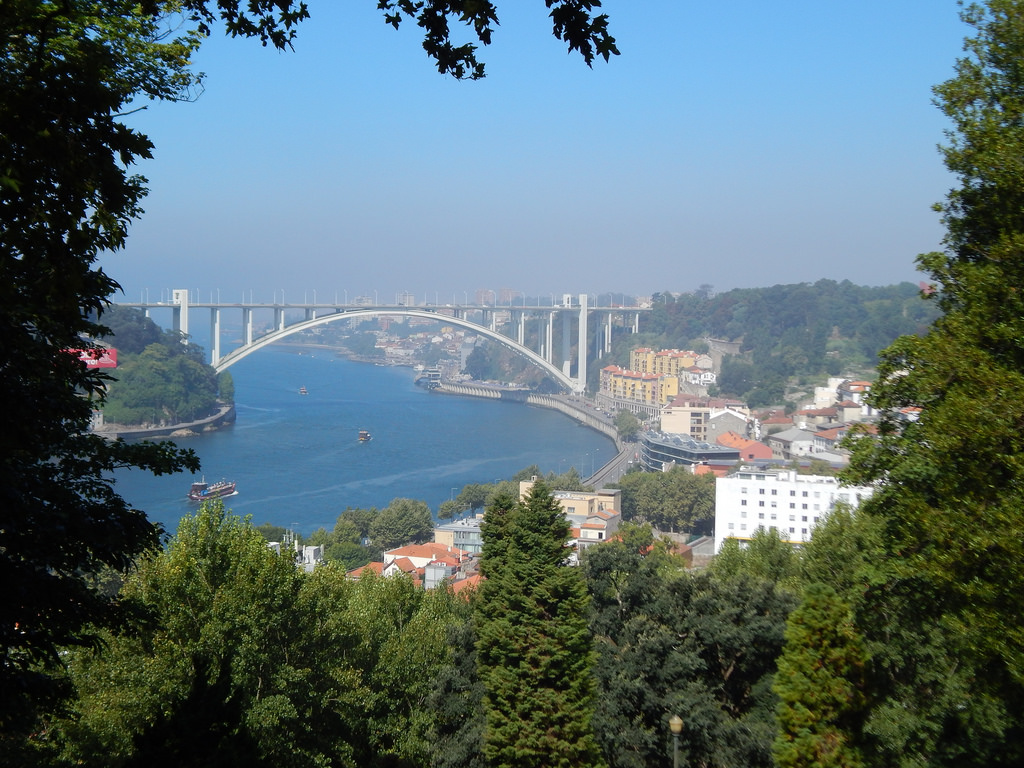arrabida: (135, 287, 653, 396)
